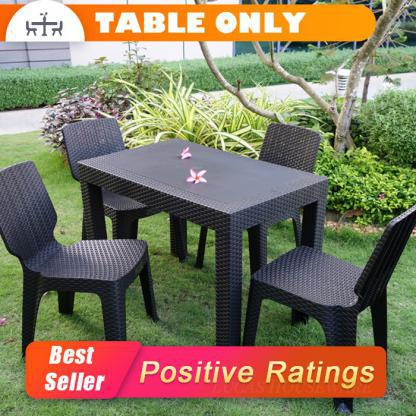table: (74, 134, 332, 376)
